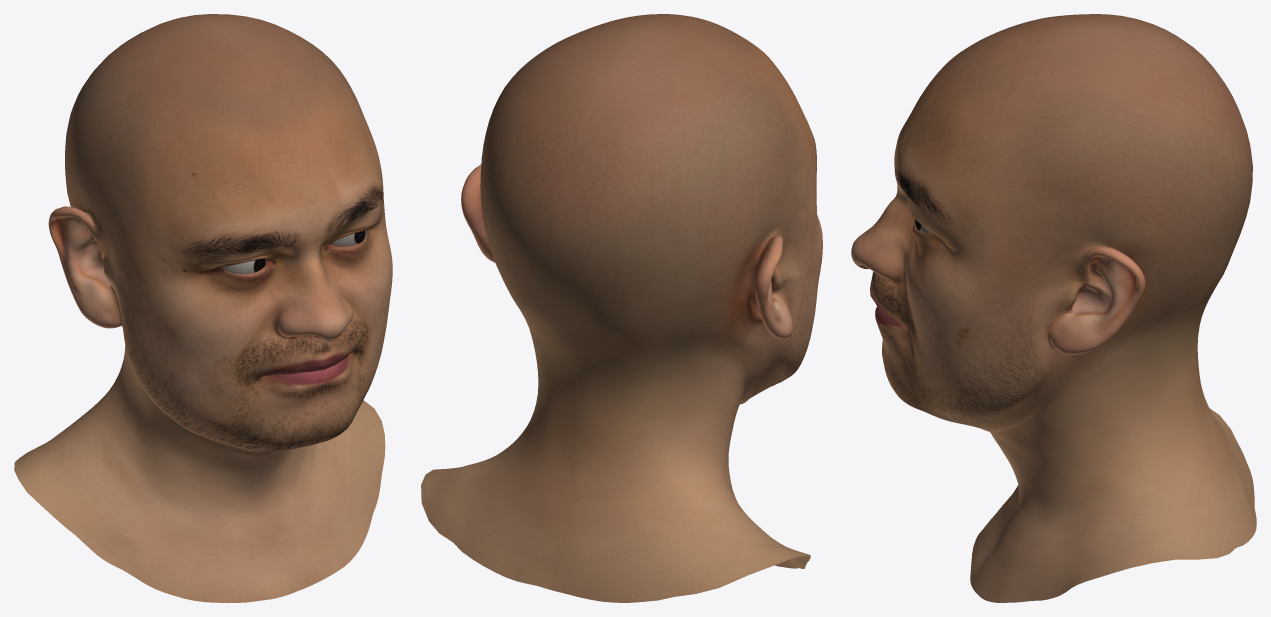
3 views of the same model, side by side, from view 1: azimuth 30°, elevation 25°; view 2: azimuth 150°, elevation 25°; view 3: azimuth 270°, elevation 25° (orthographic). The views are drawn at different scales.
Visible parts, largest first — view 1: Registered head; view 2: Registered head; view 3: Registered head.
Part boxes in pixels (x1=…): Registered head: x1=14, y1=14, x2=392, y2=602; Registered head: x1=421, y1=14, x2=822, y2=602; Registered head: x1=851, y1=14, x2=1256, y2=602.
Size of the model in its own units: 1.29 by 1.85 by 1.25.
3 materials, 3 textured.
